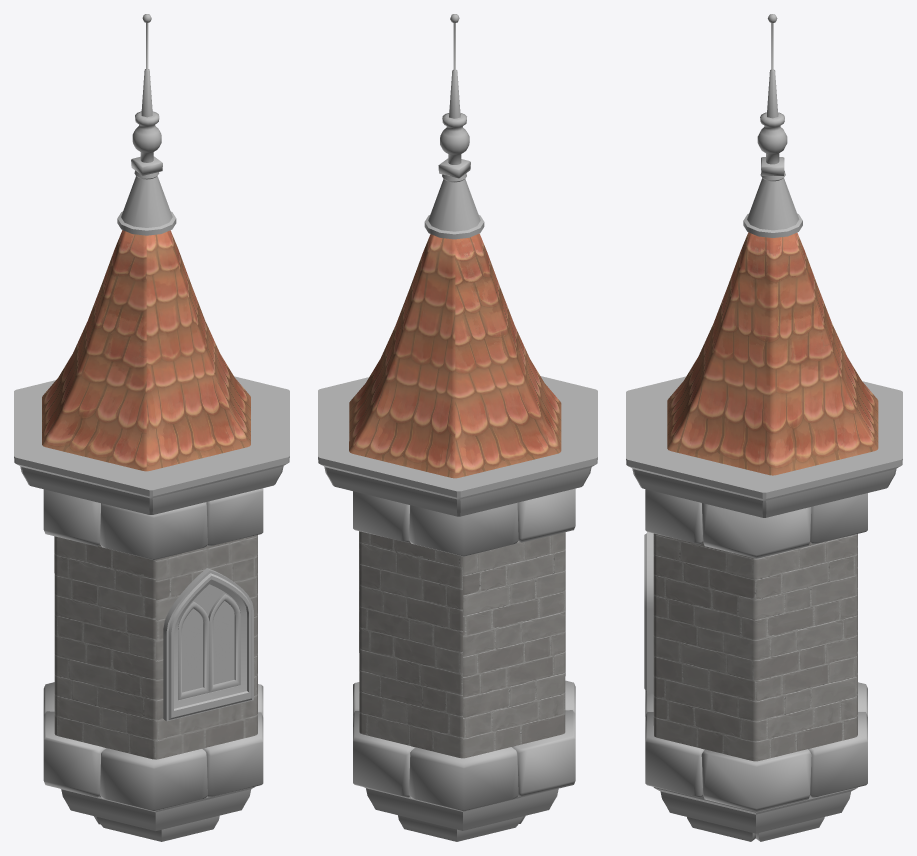
The model's file is building_scaled.fbx.
3 renders of one model, left to right at view 1: azimuth 30°, elevation 25°; view 2: azimuth 150°, elevation 25°; view 3: azimuth 270°, elevation 25°, orthographic.
Parts seen in each view (by area): view 1: Object33148; view 2: Object33148; view 3: Object33148.
Boxes of the visible parts, x1=… form: Object33148: x1=14, y1=14, x2=289, y2=841; Object33148: x1=318, y1=14, x2=597, y2=841; Object33148: x1=626, y1=14, x2=902, y2=841.
Bounding box in the file's own units: 24.22 × 66.92 × 20.98.
